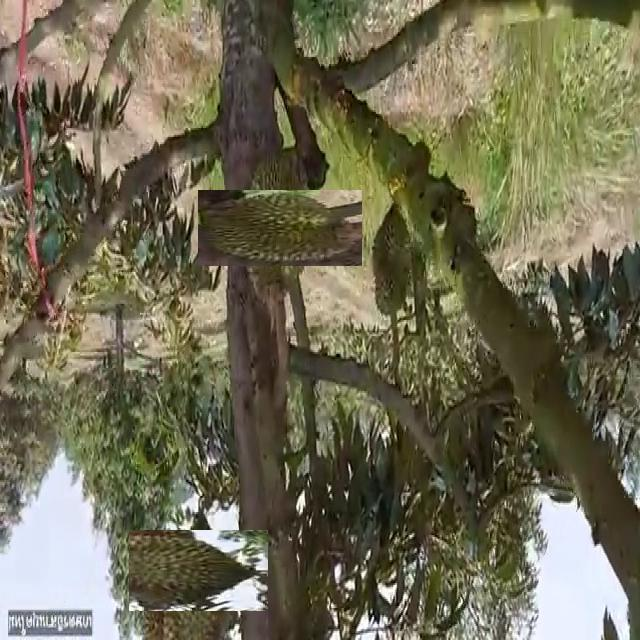durian: (219, 168, 340, 288), (143, 515, 254, 625), (370, 198, 418, 320)
